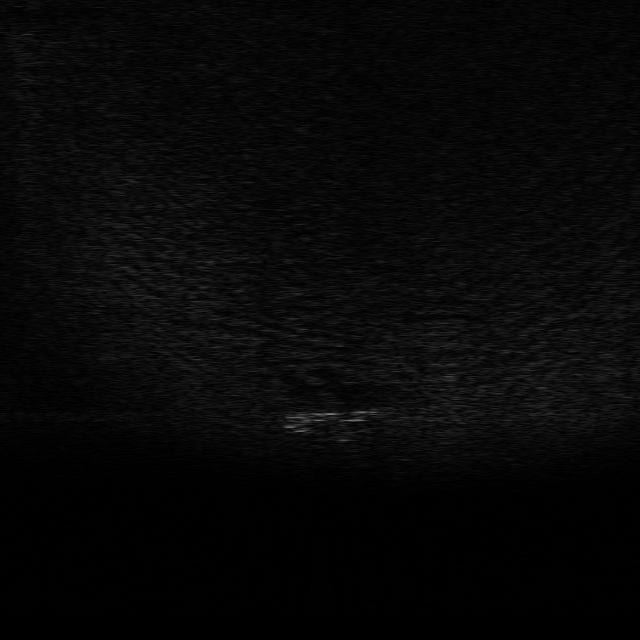plane: (275, 392, 380, 443)
